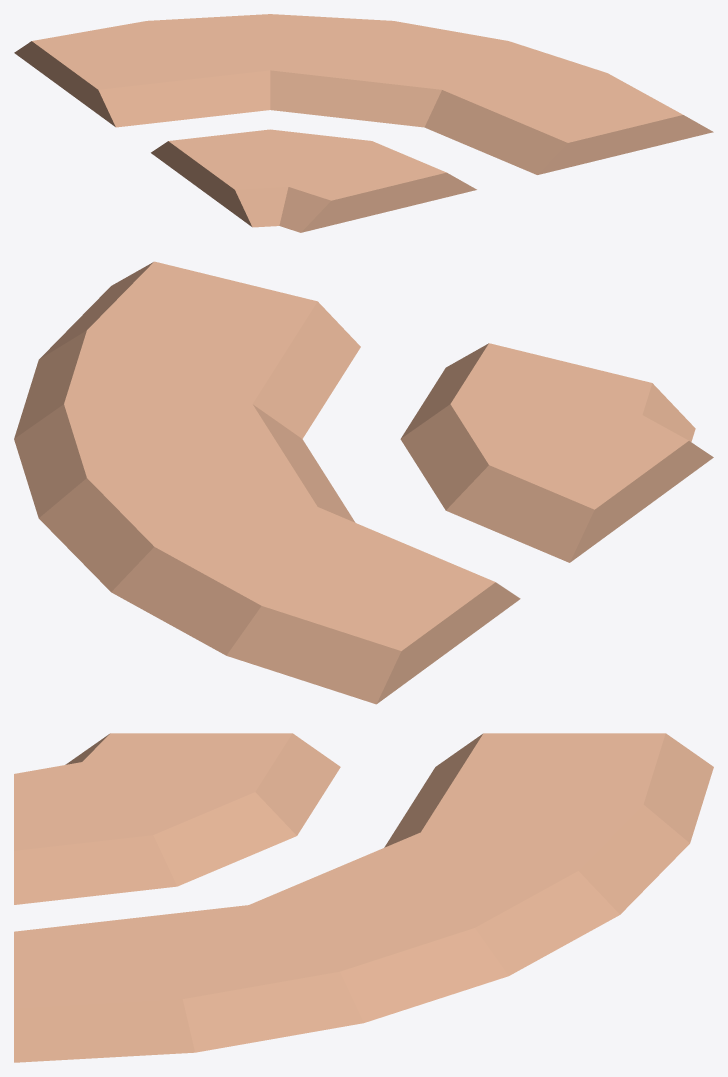
Rendered from crops_dirtDoubleRowCorner.glb.
3 renders of one model, top to bottom at view 1: azimuth 30°, elevation 25°; view 2: azimuth 150°, elevation 25°; view 3: azimuth 270°, elevation 25°, orthographic. The views are drawn at different scales.
Parts seen in each view (by area): view 1: crops_dirtDoubleRowCorner; view 2: crops_dirtDoubleRowCorner; view 3: crops_dirtDoubleRowCorner.
Boxes of the visible parts, x1,y1,x2,y2 form: crops_dirtDoubleRowCorner: (14,14,713,232); crops_dirtDoubleRowCorner: (14,261,713,704); crops_dirtDoubleRowCorner: (14,733,713,1062).
Size of the model in its own units: 0.938 by 0.05 by 0.938.
